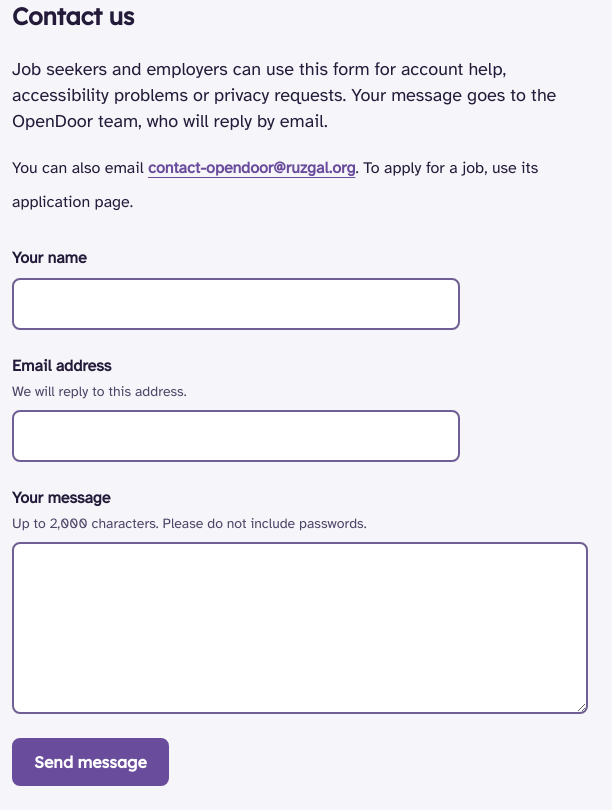
Test case: ContactPage › sends the message, thanks the visitor and clears the form
The width and height of the screenshot is (612, 810).
Type " Maria Santos " into the field labelled "Your name" at (236, 304), box [12,278,460,330]
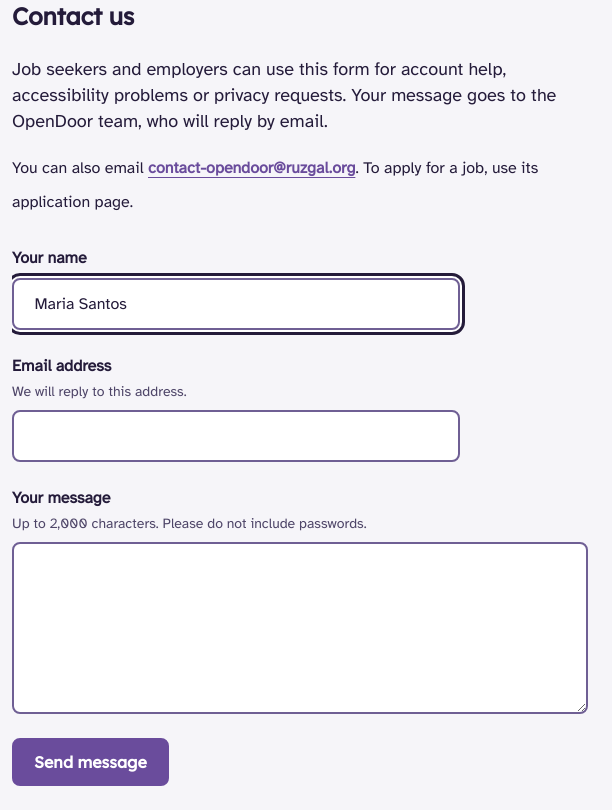
Type "maria@example.com" into the field labelled "Email address" at (236, 436), box [12,410,460,462]
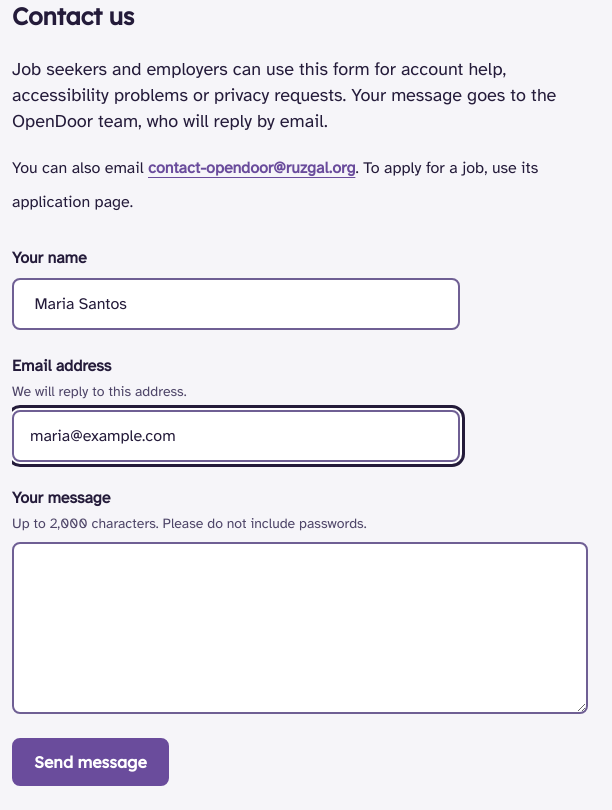
Type "I cannot upload my resume." into the text box labelled "Your message" at (300, 628), box [12,542,588,714]
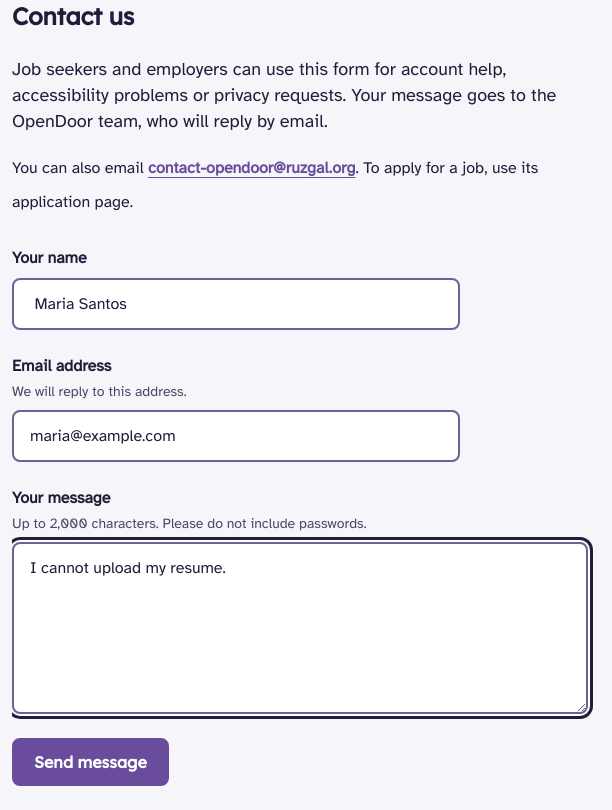
Click the button "Send message" at (90, 762), box [12,738,169,786]
(page scrolled)
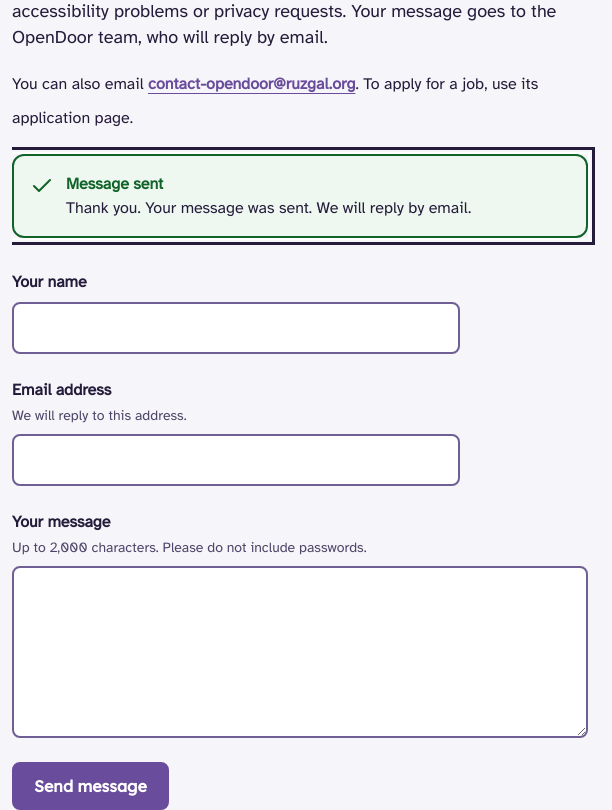
expect the text "Thank you. Your message was sent. We will reply by email." is shown: met, box [66,196,471,220]
expect the field labelled "Your name" is empty: met, box [12,302,460,354]
expect the text box labelled "Your message" is empty: met, box [12,566,588,738]
